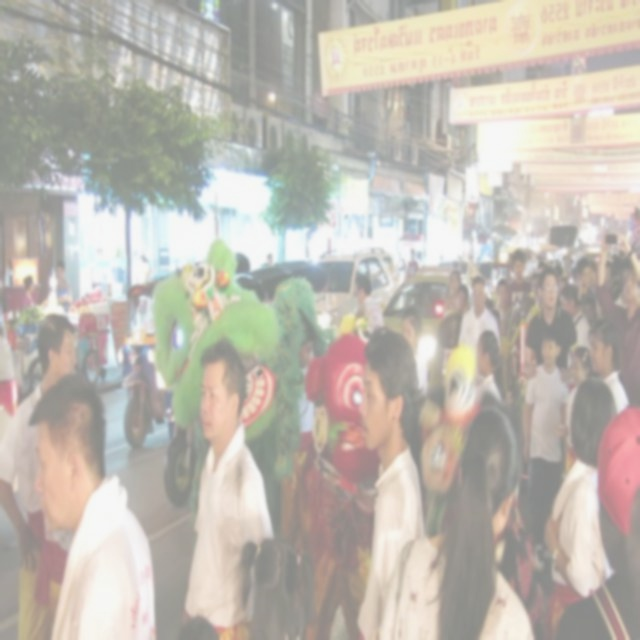pessoa: (377, 404, 536, 639), (26, 372, 160, 639), (169, 333, 278, 639), (0, 308, 78, 639), (346, 323, 426, 636), (543, 377, 619, 639), (556, 402, 639, 639), (520, 328, 568, 549), (224, 532, 320, 639), (596, 226, 640, 406), (524, 264, 578, 389), (559, 344, 595, 479), (586, 314, 632, 414), (555, 236, 600, 336), (458, 274, 500, 362), (493, 276, 517, 406), (475, 328, 508, 412), (401, 304, 428, 400), (296, 327, 318, 432), (442, 266, 468, 352), (506, 248, 533, 322), (351, 272, 381, 336), (171, 608, 223, 639), (395, 241, 422, 283), (55, 258, 74, 314), (604, 260, 628, 302), (258, 243, 282, 270), (20, 274, 36, 314), (136, 250, 152, 286), (528, 260, 544, 292), (486, 294, 500, 330), (528, 272, 542, 303)
